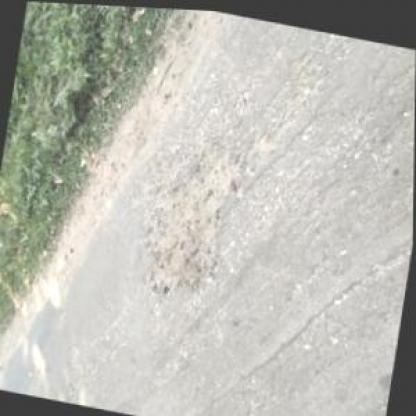pothole: (130, 135, 244, 305)
